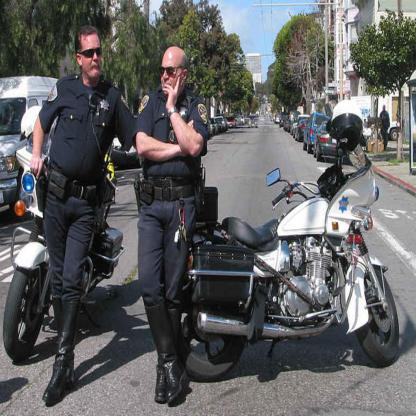face: (162, 53, 183, 94), (82, 36, 102, 79), (383, 108, 386, 111)
